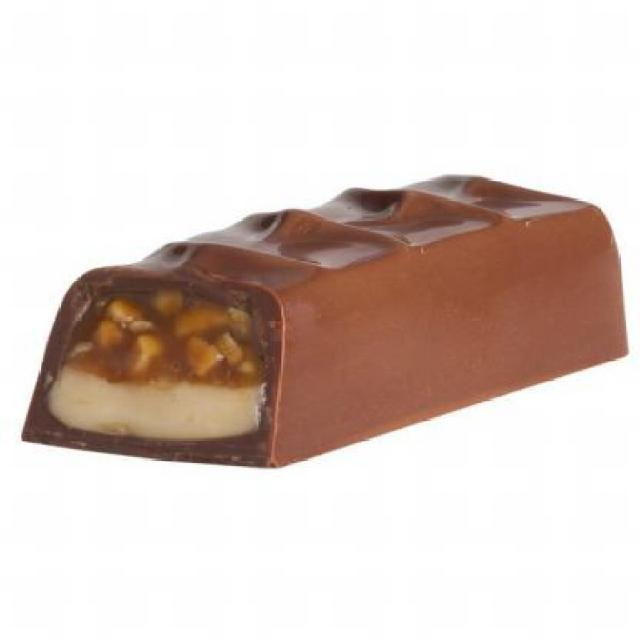Chocolate bar packaged: (22, 172, 633, 466)
